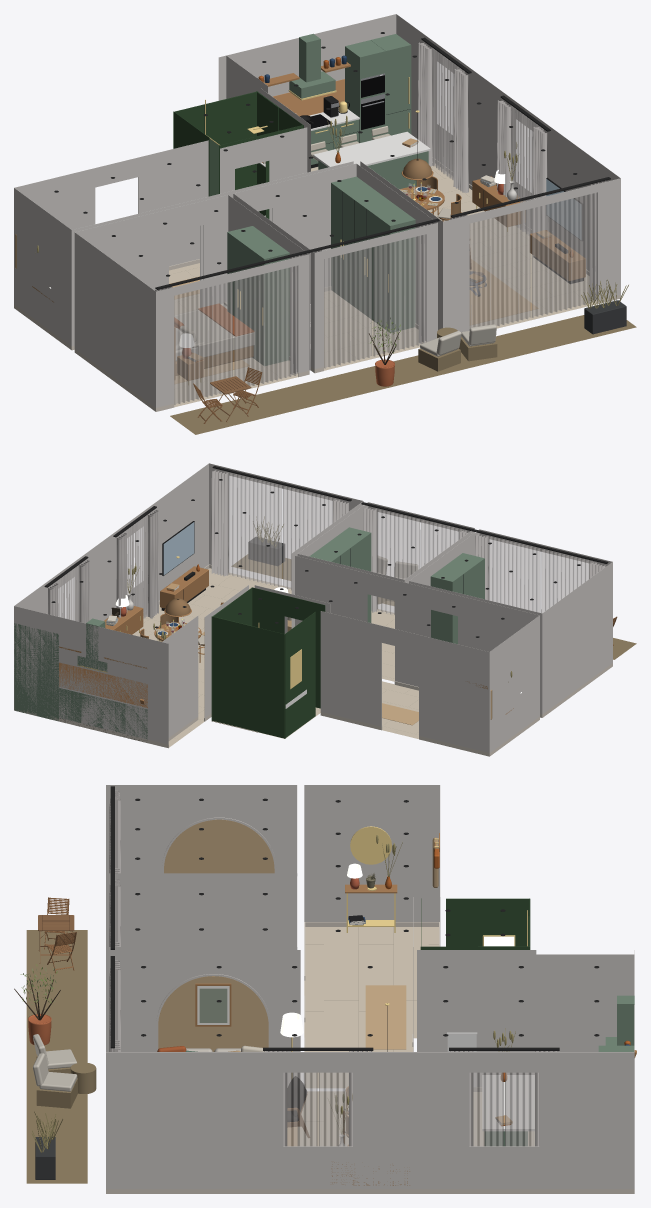
File: unit-1.C-riviera.glb
3 renders of one model, top to bottom at view 1: azimuth 30°, elevation 25°; view 2: azimuth 150°, elevation 25°; view 3: azimuth 270°, elevation 25°, orthographic. The views are drawn at different scales.
Visible parts, largest first — view 1: int-wall, int-sheer, int-joineryTall, int-floor, int-curtain, int-deck, int-showerWall, int-wood, int-joinery, int-matteBlack, int-rug, int-worktop (+14 smaller); view 2: int-wall, int-sheer, int-bathWall, int-joineryTall, int-curtain, int-floor, int-joinery, int-wood, int-splash, int-skirting, int-matteBlack, int-hallFloor (+6 smaller); view 3: int-wall, int-hallFloor, int-deck, int-sheer, int-feature, int-bathWall, int-skirting, int-rug, int-worktop, int-floor, int-curtain, int-matteBlack (+14 smaller).
Part boxes in pixels (x1,y1,x2,y2): int-wall: [14, 14, 620, 407]; int-sheer: [174, 47, 597, 404]; int-joineryTall: [227, 34, 415, 365]; int-floor: [174, 163, 597, 407]; int-curtain: [155, 42, 606, 374]; int-deck: [170, 315, 636, 434]; int-showerWall: [204, 91, 278, 215]; int-wood: [32, 61, 585, 380]; int-joinery: [289, 33, 428, 189]; int-matteBlack: [155, 37, 610, 289]; int-rug: [169, 259, 538, 383]; int-worktop: [259, 108, 430, 167]; int-wall: [14, 463, 612, 752]; int-sheer: [51, 472, 596, 621]; int-bathWall: [211, 587, 325, 738]; int-joineryTall: [14, 527, 484, 721]; int-curtain: [48, 470, 605, 623]; int-floor: [132, 568, 394, 747]; int-joinery: [59, 618, 147, 739]; int-wood: [59, 566, 513, 714]; int-splash: [59, 662, 147, 708]; int-skirting: [14, 564, 612, 756]; int-matteBlack: [44, 466, 608, 740]; int-hallFloor: [382, 681, 418, 738]; int-wall: [106, 785, 634, 1189]; int-hallFloor: [304, 927, 438, 1088]; int-deck: [26, 930, 87, 1183]; int-sheer: [109, 798, 539, 1146]; int-feature: [158, 819, 274, 1051]; int-bathWall: [420, 898, 530, 949]; int-skirting: [106, 922, 634, 1193]; int-rug: [287, 985, 406, 1145]; int-worktop: [447, 1032, 534, 1131]; int-floor: [298, 1091, 534, 1146]; int-curtain: [113, 790, 558, 1146]; int-matteBlack: [110, 786, 559, 1050].
Size of the model in its own units: 10.9 by 2.8 by 10.71.
